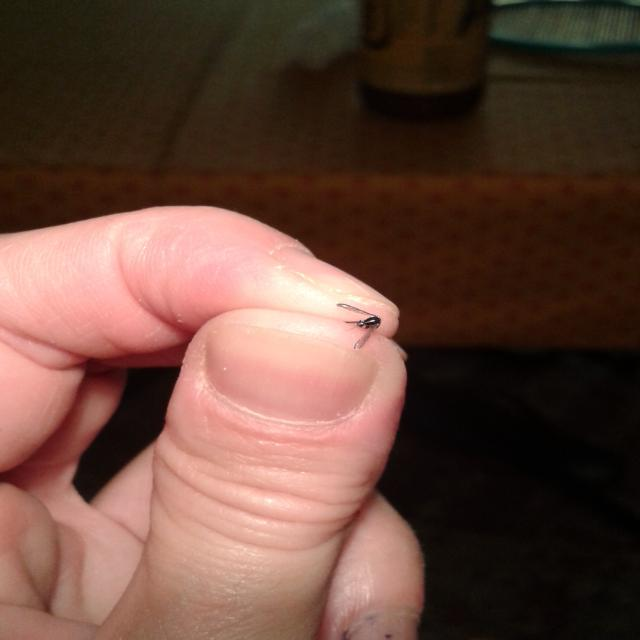albopictus: (323, 298, 393, 354)
